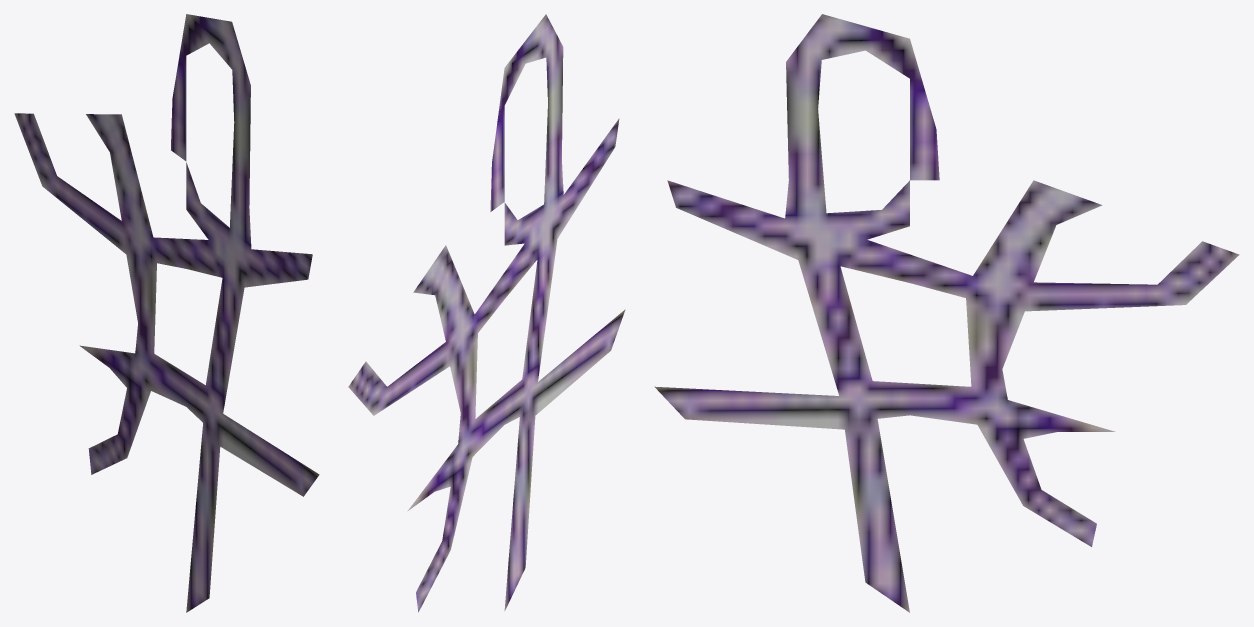
The picture shows the model from 3 angles, left to right: view 1: azimuth 30°, elevation 25°; view 2: azimuth 150°, elevation 25°; view 3: azimuth 270°, elevation 25°; orthographic projection. The views are drawn at different scales.
Parts seen in each view (by area): view 1: Picsart_22-01-21_15-37-57-171.001; view 2: Picsart_22-01-21_15-37-57-171.001; view 3: Picsart_22-01-21_15-37-57-171.001.
Boxes of the visible parts, x1,y1,x2,y2 form: Picsart_22-01-21_15-37-57-171.001: [14, 14, 319, 612]; Picsart_22-01-21_15-37-57-171.001: [348, 14, 625, 612]; Picsart_22-01-21_15-37-57-171.001: [654, 14, 1239, 612].
Size of the model in its own units: 1.33e-07 by 1.58 by 1.4.
Materials: 1 (1 with a texture image).
